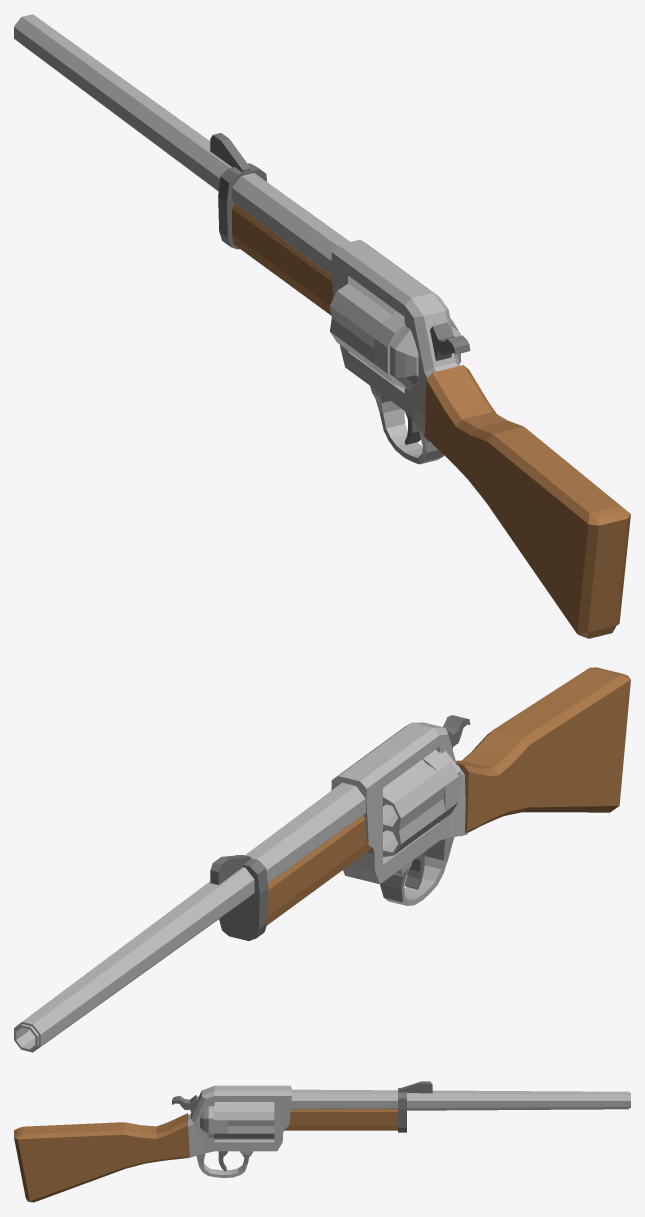
The model's file is Revolver-Rifles-Long.fbx.
3 renders of one model, top to bottom at view 1: azimuth 30°, elevation 25°; view 2: azimuth 150°, elevation 25°; view 3: azimuth 270°, elevation 25°, orthographic. The views are drawn at different scales.
Visible parts, largest first — view 1: Shotgun_A.001; view 2: Shotgun_A.001; view 3: Shotgun_A.001.
Part boxes in pixels (box(x1,y1,x2,y2)): Shotgun_A.001: box(14, 14, 630, 638); Shotgun_A.001: box(14, 667, 630, 1052); Shotgun_A.001: box(14, 1081, 630, 1202).
Bounding box in the file's own units: 98.9 × 294 × 1414.
